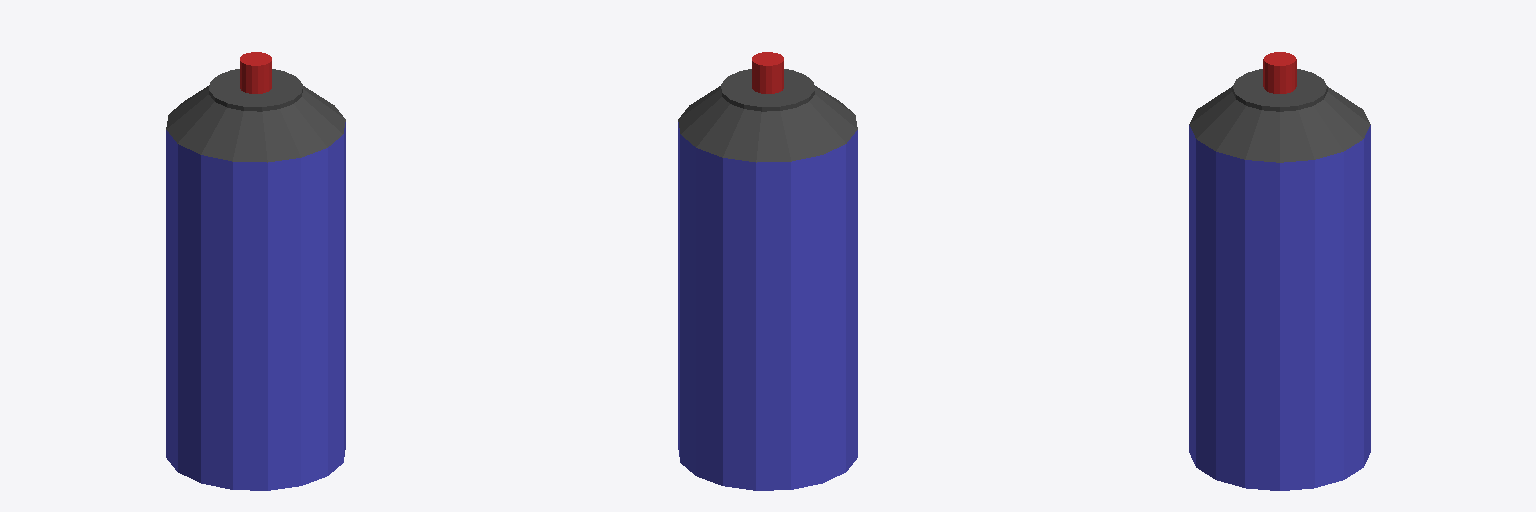
File: spray.obj
3 renders of one model, left to right at view 1: azimuth 30°, elevation 25°; view 2: azimuth 150°, elevation 25°; view 3: azimuth 270°, elevation 25°, orthographic.
Visible parts, largest first — view 1: Cylinder.001; view 2: Cylinder.001; view 3: Cylinder.001.
Part boxes in pixels (x1,y1,x2,y2): Cylinder.001: (166, 52, 345, 490); Cylinder.001: (678, 52, 857, 490); Cylinder.001: (1189, 52, 1370, 490).
Bounding box in the file's own units: 2 × 4.8 × 2.